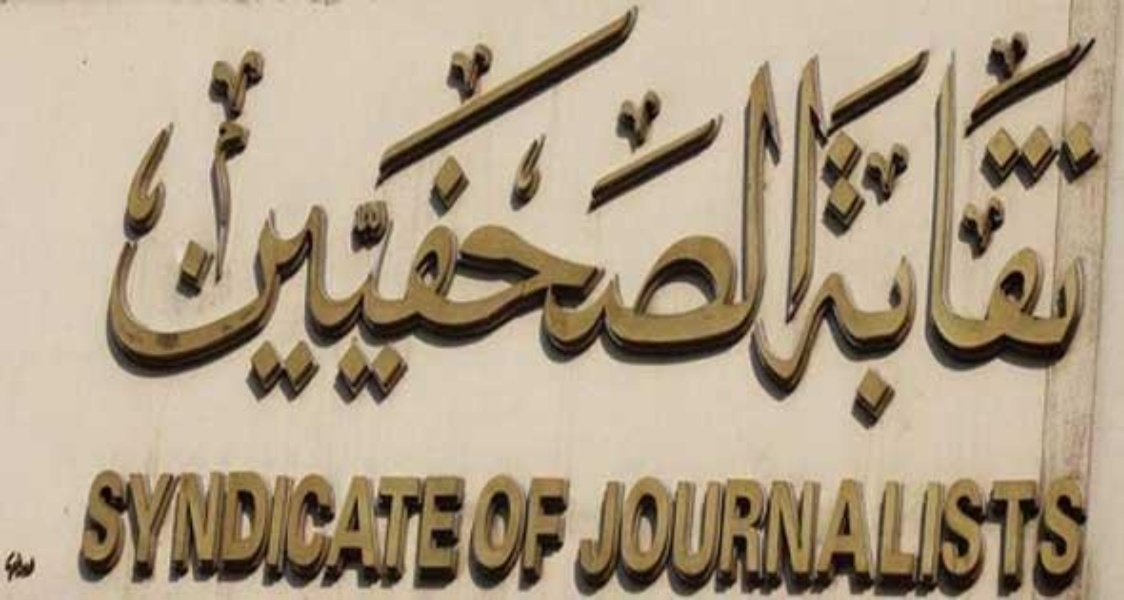text: (817, 1, 833, 408), (785, 27, 800, 439), (801, 27, 816, 439), (817, 27, 832, 439), (833, 27, 848, 439), (849, 27, 864, 439), (865, 27, 880, 439), (881, 27, 896, 439), (897, 27, 912, 439), (913, 27, 928, 439), (929, 27, 944, 439), (945, 27, 960, 439), (961, 27, 976, 439), (977, 27, 992, 439), (993, 27, 1008, 439), (1009, 27, 1024, 439), (1025, 27, 1040, 439), (1041, 27, 1056, 439), (1057, 27, 1072, 439), (1073, 27, 1088, 439), (1089, 27, 1104, 439), (129, 1, 144, 408), (145, 1, 160, 408), (161, 1, 176, 408), (177, 1, 192, 408), (193, 1, 208, 408), (209, 1, 224, 408), (225, 1, 240, 408), (241, 1, 256, 408), (257, 1, 272, 408), (273, 1, 288, 408), (289, 1, 304, 408), (305, 1, 320, 408), (321, 1, 336, 408), (337, 1, 352, 408), (353, 1, 368, 408), (369, 1, 384, 408), (385, 1, 400, 408), (401, 1, 416, 408), (417, 1, 432, 408), (433, 1, 448, 408), (449, 1, 464, 408), (465, 1, 480, 408), (481, 1, 496, 408), (497, 1, 512, 408), (513, 1, 528, 408), (529, 1, 544, 408), (545, 1, 560, 408), (561, 1, 576, 408), (577, 1, 592, 408), (593, 1, 608, 408), (609, 1, 624, 408), (625, 1, 640, 408), (641, 1, 656, 408), (657, 1, 672, 408), (673, 1, 688, 408), (689, 1, 704, 408), (705, 1, 720, 408), (721, 1, 736, 408), (737, 1, 752, 408), (753, 1, 768, 408), (769, 1, 784, 408), (785, 1, 800, 408), (801, 1, 816, 408), (119, 1, 128, 408), (778, 27, 784, 439), (1105, 27, 1111, 439), (481, 469, 496, 593), (497, 469, 512, 593), (513, 469, 528, 593), (529, 469, 544, 593), (545, 469, 560, 593), (561, 469, 576, 593), (449, 465, 465, 580), (593, 471, 608, 587), (609, 471, 624, 587), (625, 471, 640, 587), (641, 471, 656, 587), (657, 471, 672, 587), (673, 471, 688, 587), (689, 471, 704, 587), (705, 471, 720, 587), (721, 471, 736, 587), (737, 471, 752, 587), (753, 471, 768, 587), (769, 471, 784, 587), (785, 471, 800, 587), (801, 471, 816, 587), (817, 471, 832, 587), (833, 471, 848, 587), (849, 471, 864, 587), (865, 471, 880, 587), (881, 471, 896, 587), (897, 471, 912, 587), (913, 471, 928, 587), (929, 471, 944, 587), (945, 471, 960, 587), (961, 471, 976, 587), (977, 471, 992, 587), (993, 471, 1008, 587), (1009, 471, 1024, 587), (1025, 471, 1040, 587), (1041, 471, 1056, 587), (1057, 471, 1072, 587), (1073, 471, 1088, 587), (97, 465, 112, 580), (113, 465, 128, 580), (129, 465, 144, 580), (145, 465, 160, 580), (161, 465, 176, 580), (177, 465, 192, 580), (193, 465, 208, 580), (209, 465, 224, 580), (225, 465, 240, 580), (241, 465, 256, 580), (257, 465, 272, 580), (273, 465, 288, 580), (289, 465, 304, 580), (305, 465, 320, 580), (321, 465, 336, 580), (337, 465, 352, 580), (353, 465, 368, 580), (369, 465, 384, 580), (385, 465, 400, 580), (401, 465, 416, 580), (417, 465, 432, 580), (433, 465, 448, 580), (578, 471, 592, 587), (475, 469, 480, 593), (92, 465, 96, 580), (577, 469, 578, 593)
